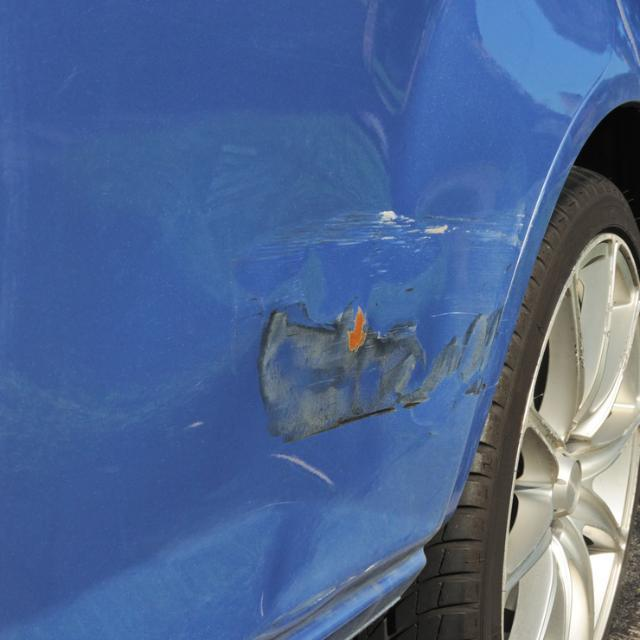Door: (226, 130, 514, 515)
